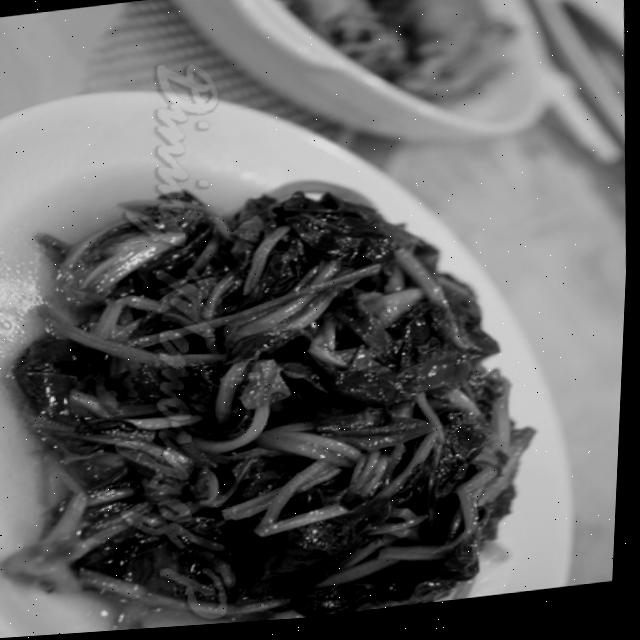蔬菜料理: (0, 97, 592, 640)
